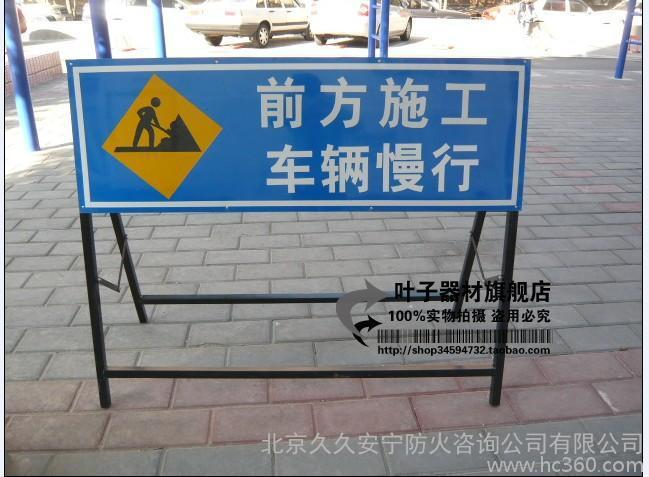sign: (63, 60, 528, 411)
